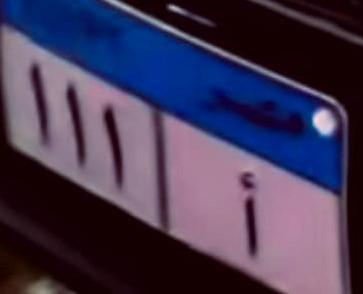1: (99, 94, 135, 201), (63, 74, 89, 167), (24, 59, 51, 146)
أ: (212, 163, 267, 268)
